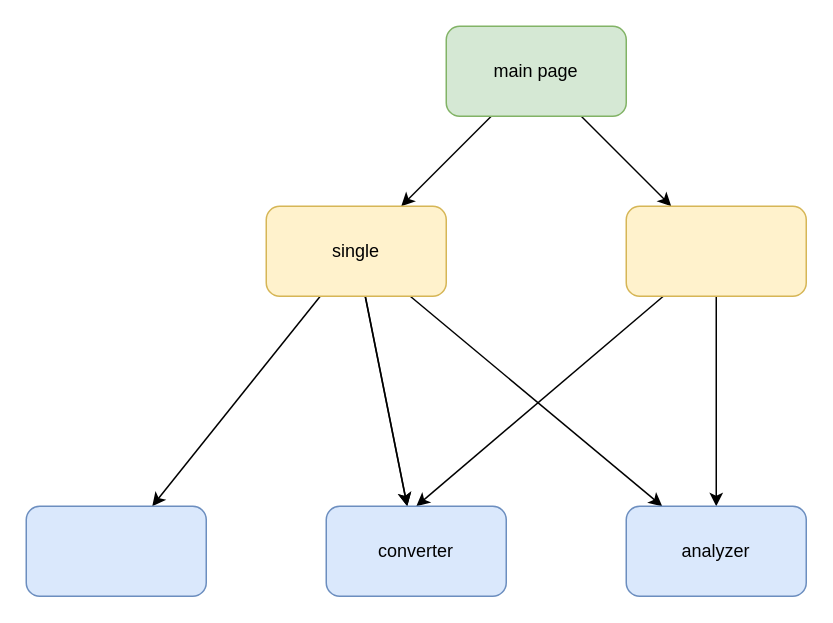
This 833x623 diagram has some shape labels left out. The box of each missing label's shape, as (x1, y1, x2, y2) in pixels:
mass: (625, 205, 806, 296)
onset detector: (25, 505, 206, 596)
